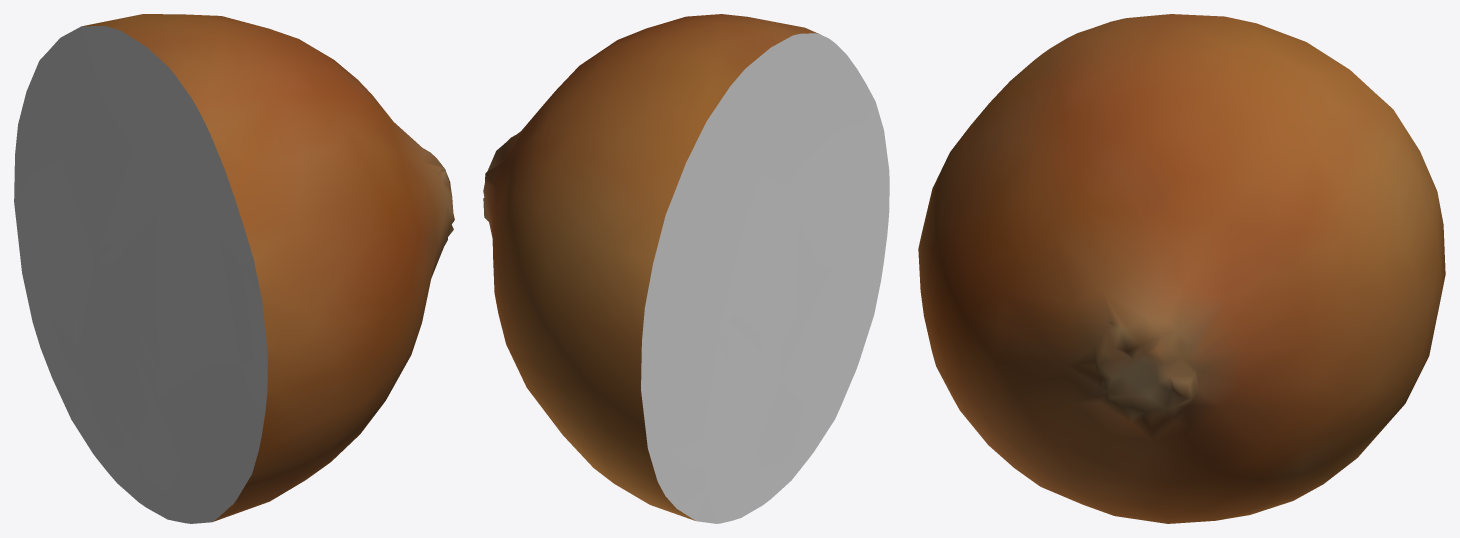
File: Onion2.fbx
The picture shows the model from 3 angles, left to right: view 1: azimuth 30°, elevation 25°; view 2: azimuth 150°, elevation 25°; view 3: azimuth 270°, elevation 25°; orthographic projection. The views are drawn at different scales.
Parts seen in each view (by area): view 1: OnionInside, onion.001; view 2: OnionInside, onion.001; view 3: onion.001.
Part boxes in pixels (x1,y1,x2,y2): OnionInside: [14, 26, 267, 523]; onion.001: [82, 14, 454, 521]; OnionInside: [641, 33, 889, 523]; onion.001: [483, 14, 819, 520]; onion.001: [918, 14, 1445, 523].
Size of the model in its own units: 5.59 by 8.69 by 8.64.
